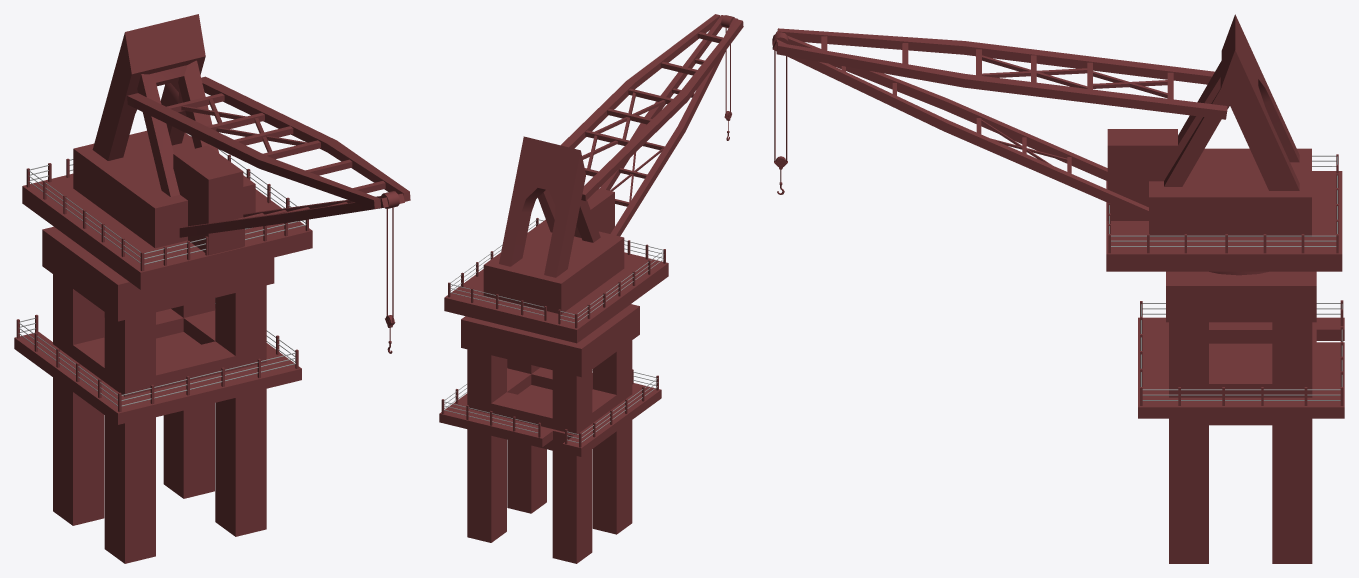
File: crane boi newer.fbx
3 renders of one model, left to right at view 1: azimuth 30°, elevation 25°; view 2: azimuth 150°, elevation 25°; view 3: azimuth 270°, elevation 25°, orthographic. The views are drawn at different scales.
Visible parts, largest first — view 1: pCube69, pCube68; view 2: pCube69, pCube68; view 3: pCube68, pCube69.
Boxes of the visible parts, <box> form: pCube69: <box>14,226,301,563</box>; pCube68: <box>22,14,410,353</box>; pCube69: <box>439,304,661,563</box>; pCube68: <box>444,14,743,343</box>; pCube68: <box>772,14,1342,275</box>; pCube69: <box>1138,271,1344,563</box>.
Bounding box in the file's own units: 2237 × 5801 × 6049.
